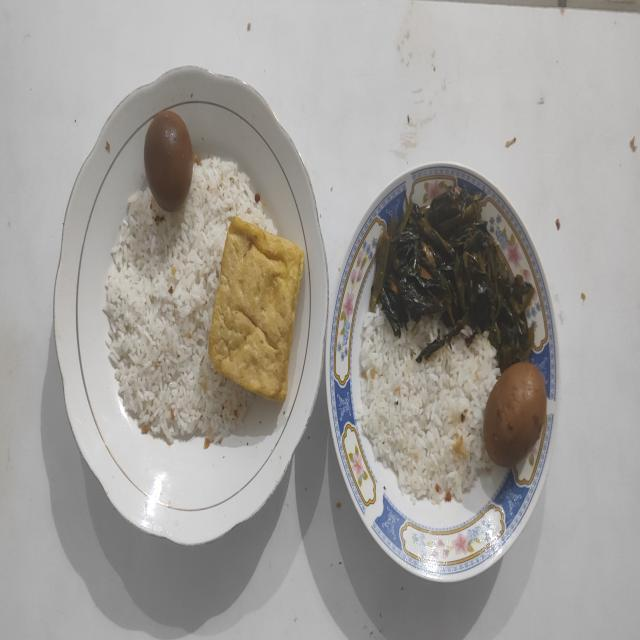nasi_putih: (104, 156, 276, 445), (359, 314, 500, 504)
tahu_goreng: (210, 217, 304, 400)
tumis_kangkung: (368, 187, 534, 372)
